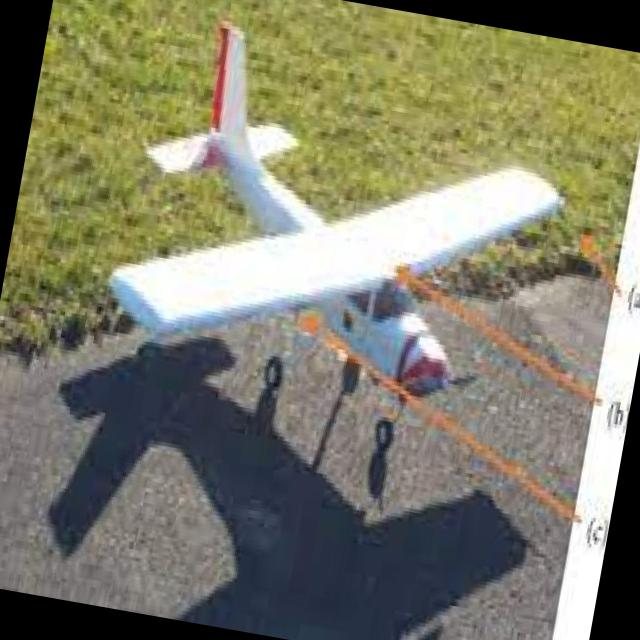UAV: (127, 39, 590, 474)
